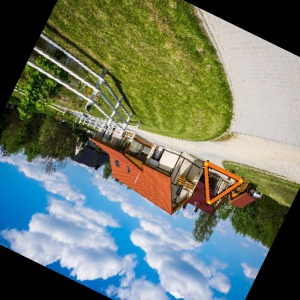triangle: (201, 157, 246, 206)
